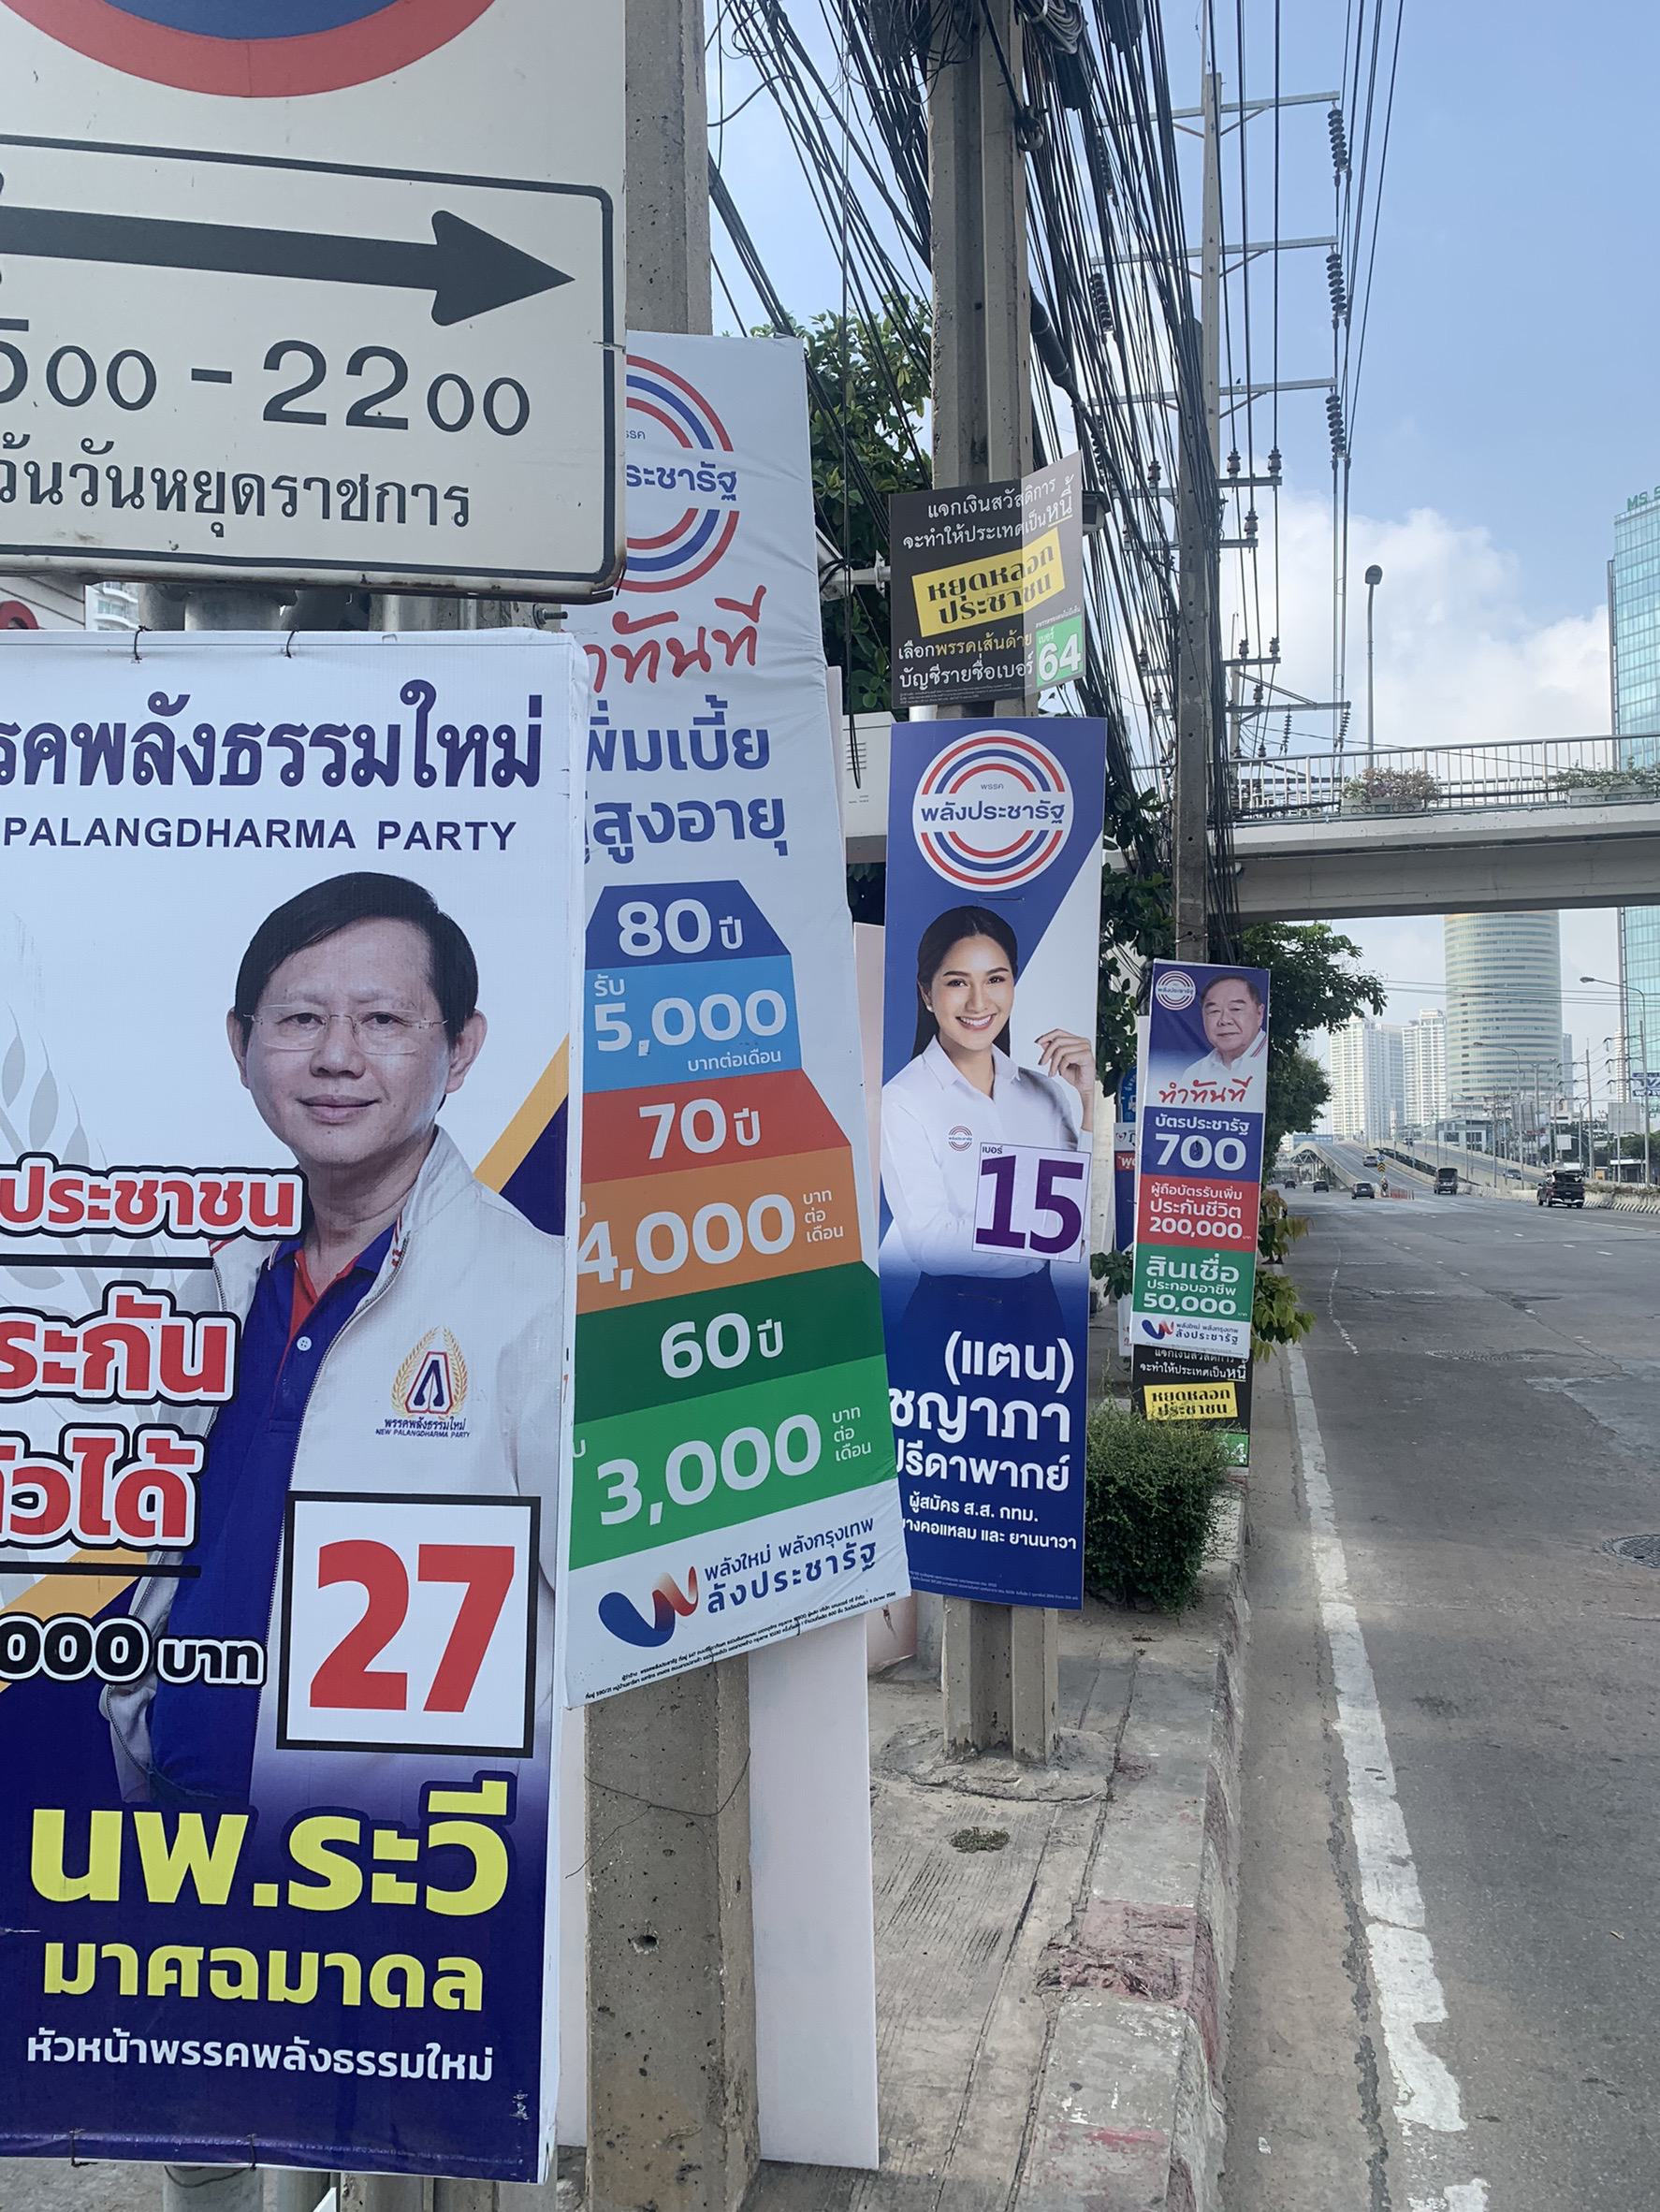Banner: (2, 638, 593, 2212), (396, 314, 865, 1675), (893, 715, 1088, 1618), (1121, 957, 1282, 1445)
